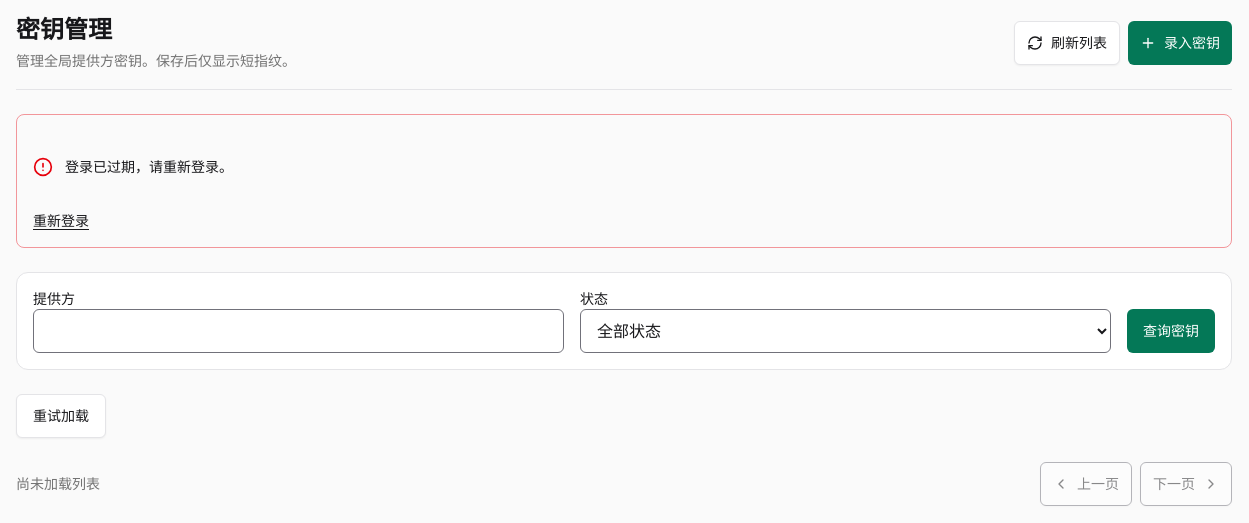
Test: admin/api-keys safe interface › [authorization] uses fixed authorization errors and rejects extra secret fields from the server
Expected: the link "重新登录" is shown, [33, 211, 89, 231]
Click the button "刷新列表" at point(1067, 43), box [1014, 21, 1120, 65]
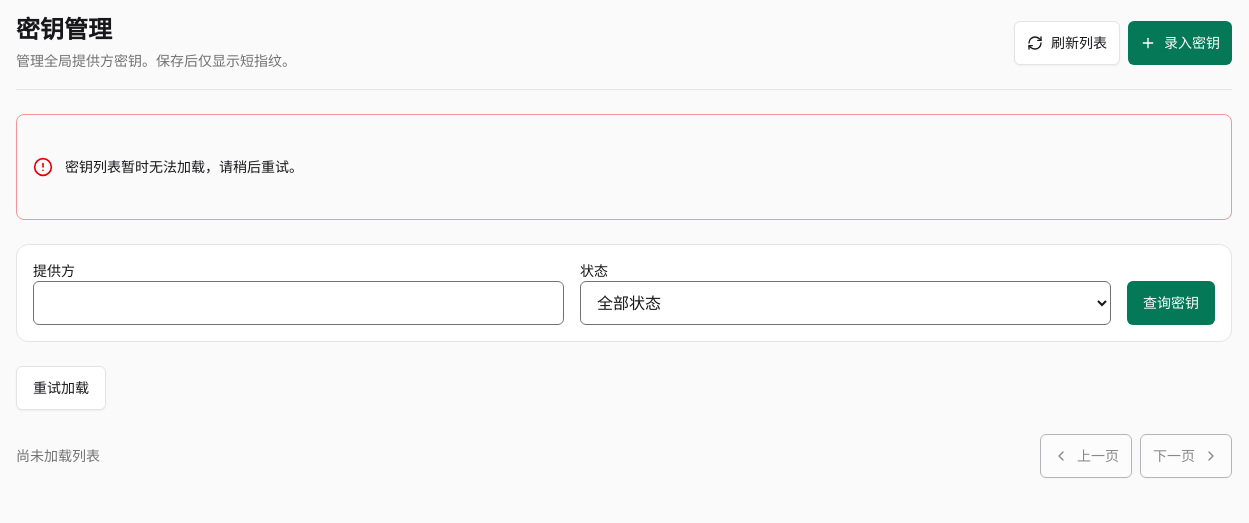
Expected: the text "密钥列表暂时无法加载，请稍后重试。" is shown, [65, 155, 303, 179]
